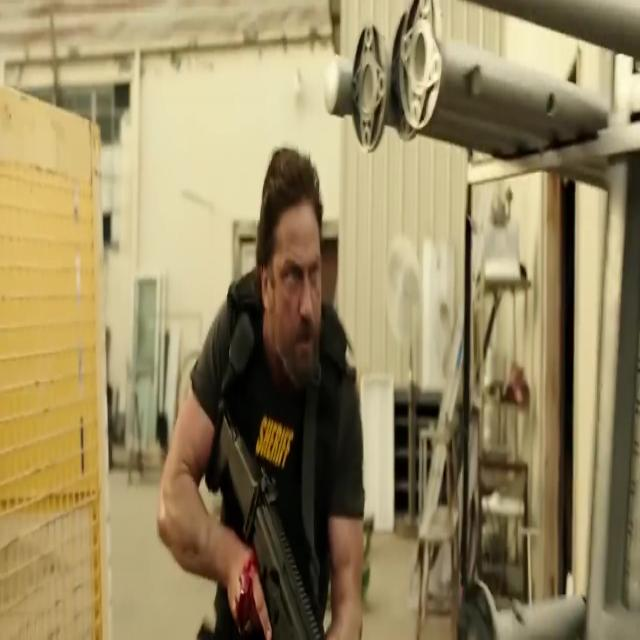Weapon: (211, 417, 345, 640)
